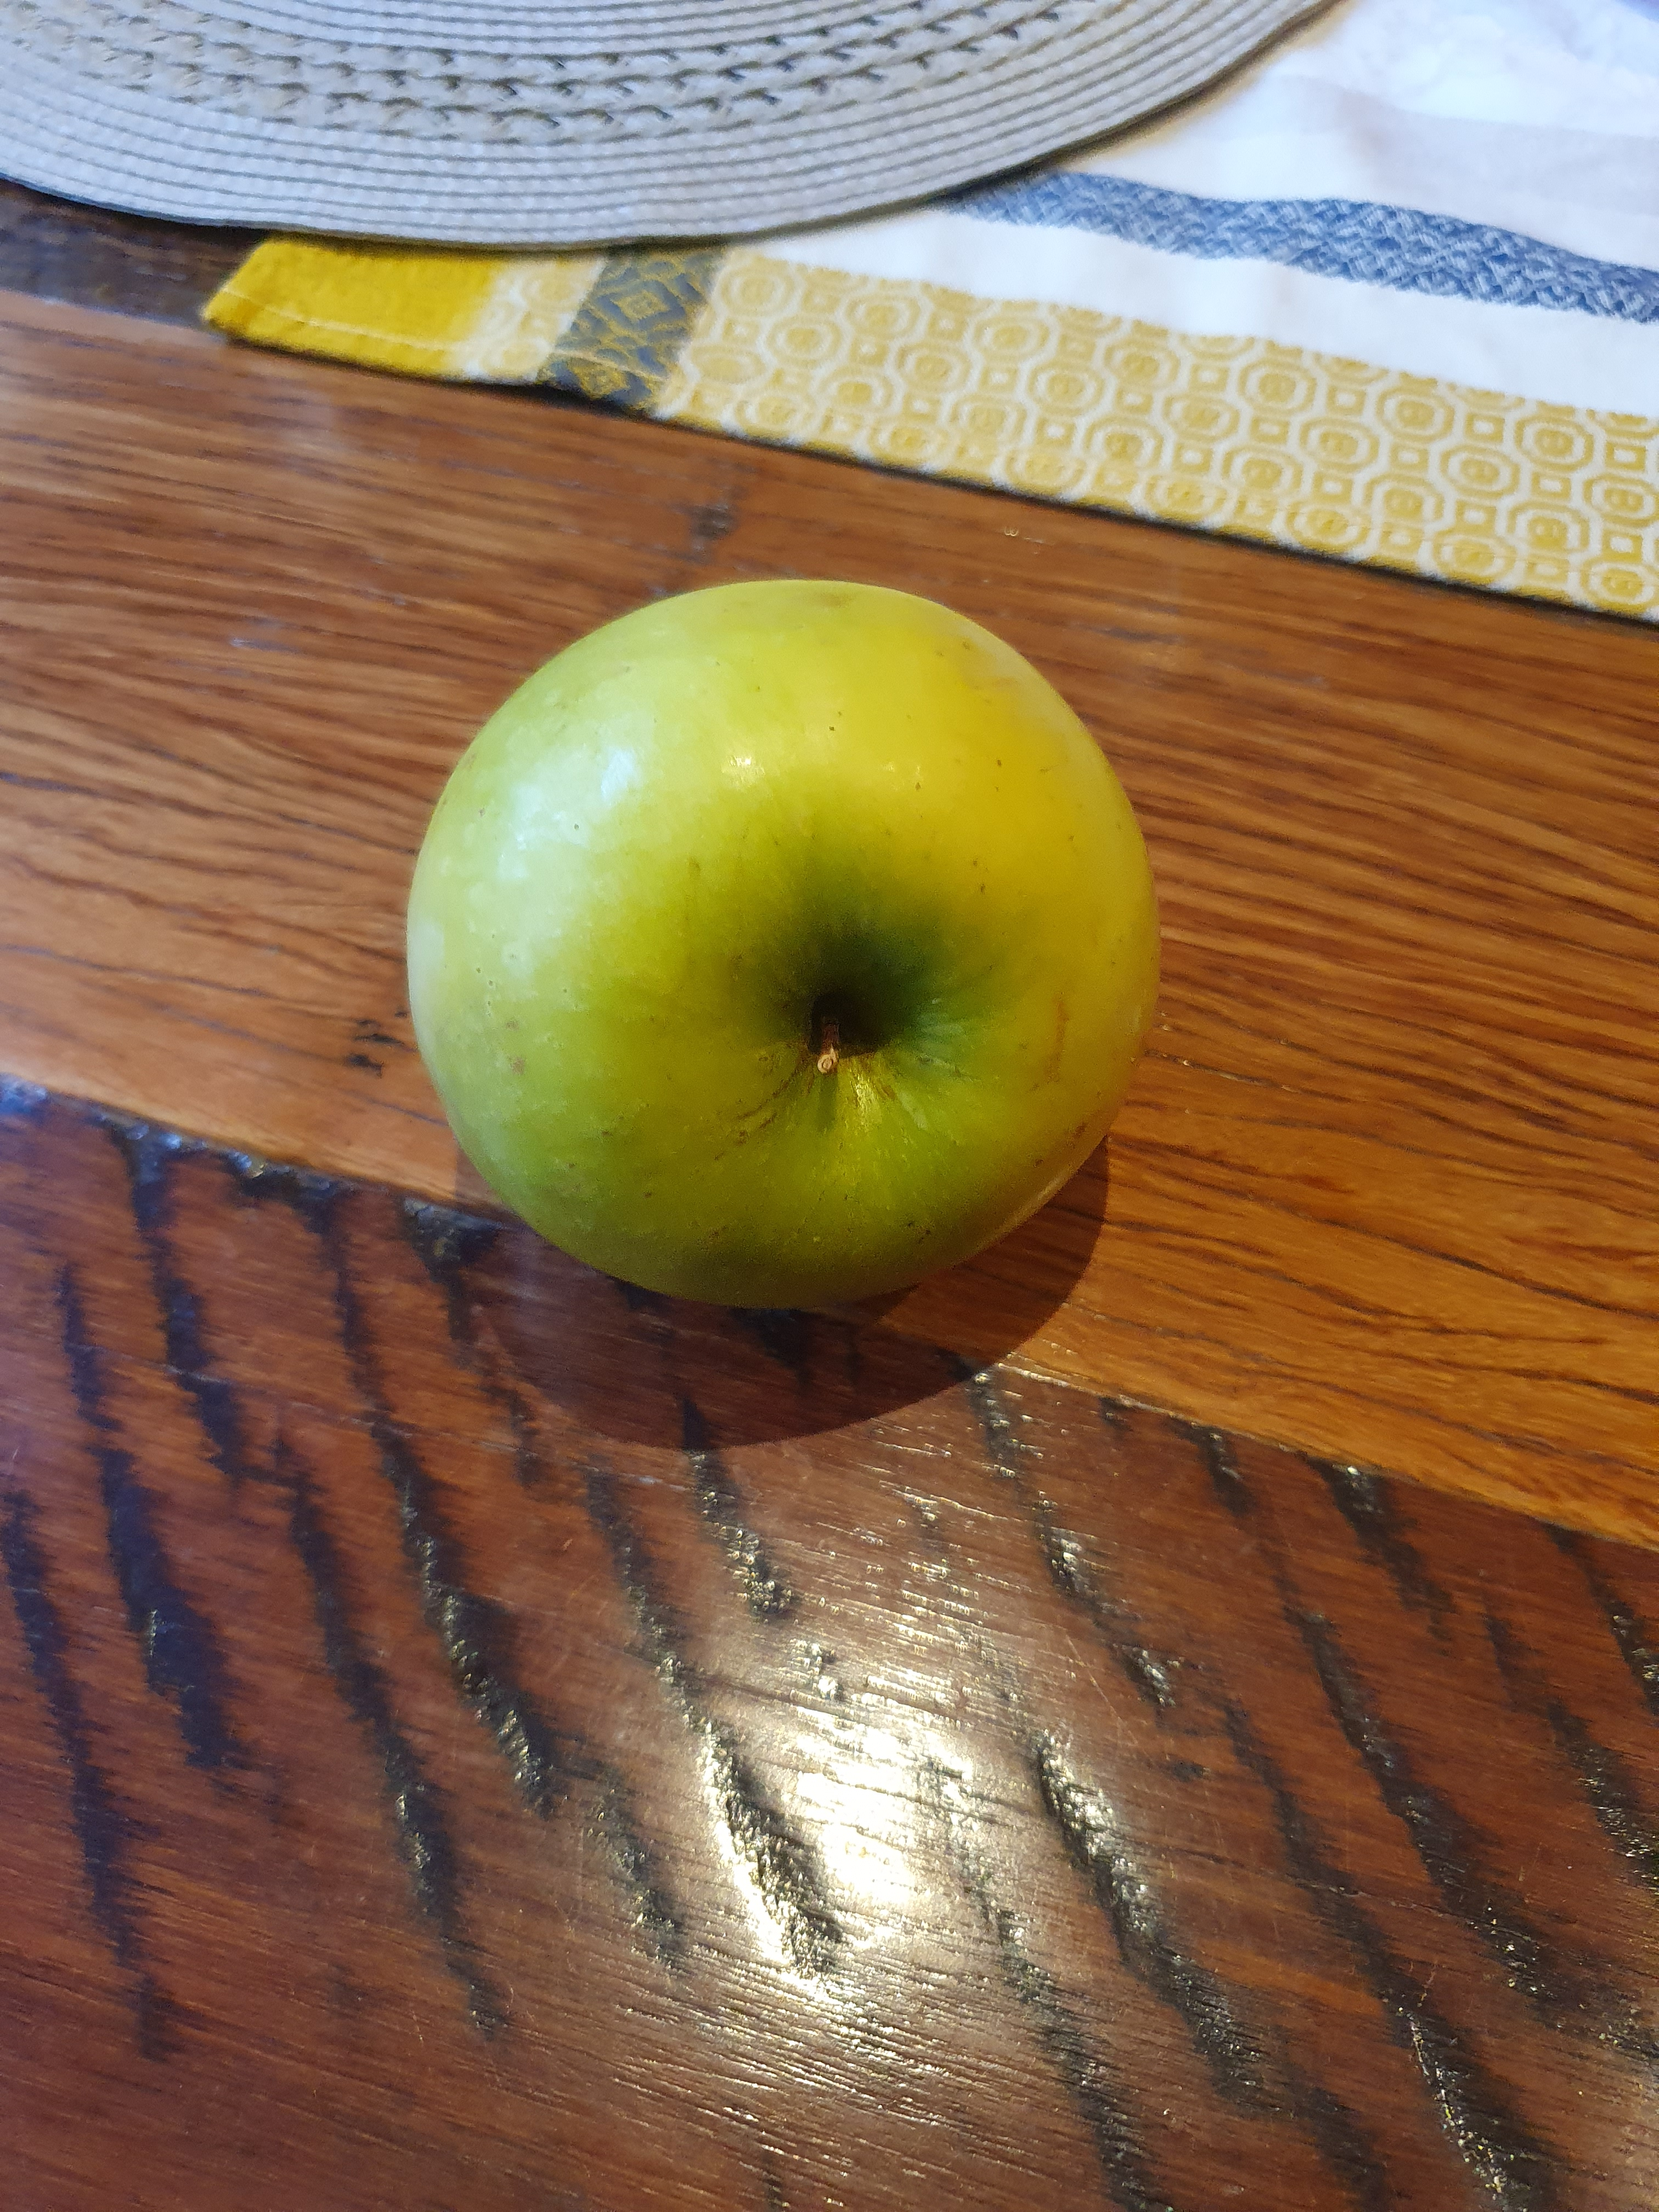green_apple: (389, 568, 1169, 1320)
